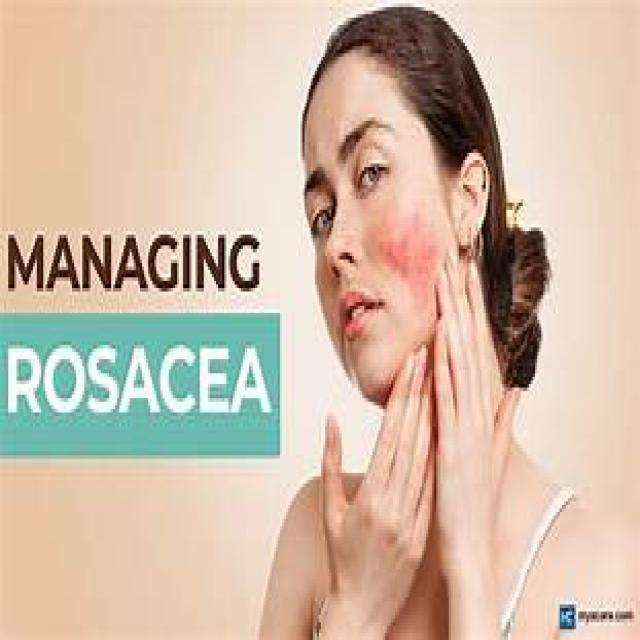Rosacea: (377, 228, 434, 276)
